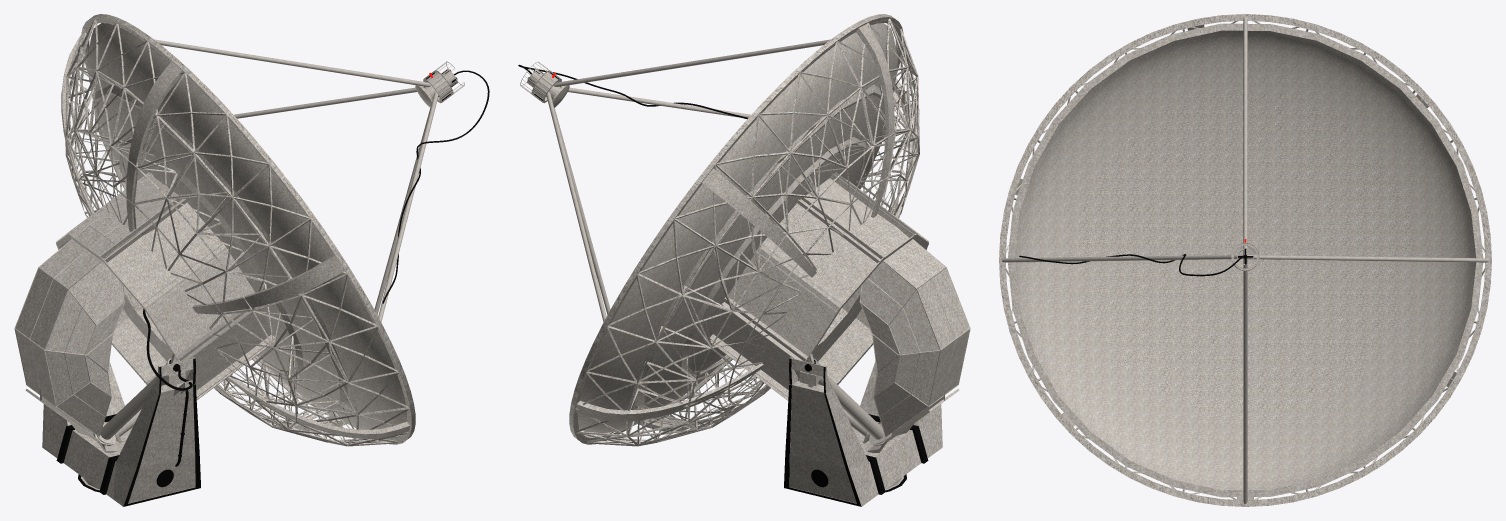
Rendered from Big_dish.glb.
The picture shows the model from 3 angles, left to right: view 1: azimuth 30°, elevation 25°; view 2: azimuth 150°, elevation 25°; view 3: azimuth 270°, elevation 25°; orthographic projection. The views are drawn at different scales.
Parts seen in each view (by area): view 1: Plane.842; view 2: Plane.842; view 3: Plane.842.
Boxes of the visible parts, x1,y1,x2,y2 form: Plane.842: (14, 14, 489, 506); Plane.842: (518, 14, 970, 506); Plane.842: (999, 14, 1491, 506).
Bounding box in the file's own units: 17.03 × 15.77 × 17.43.
Materials: 4 (2 with a texture image).
